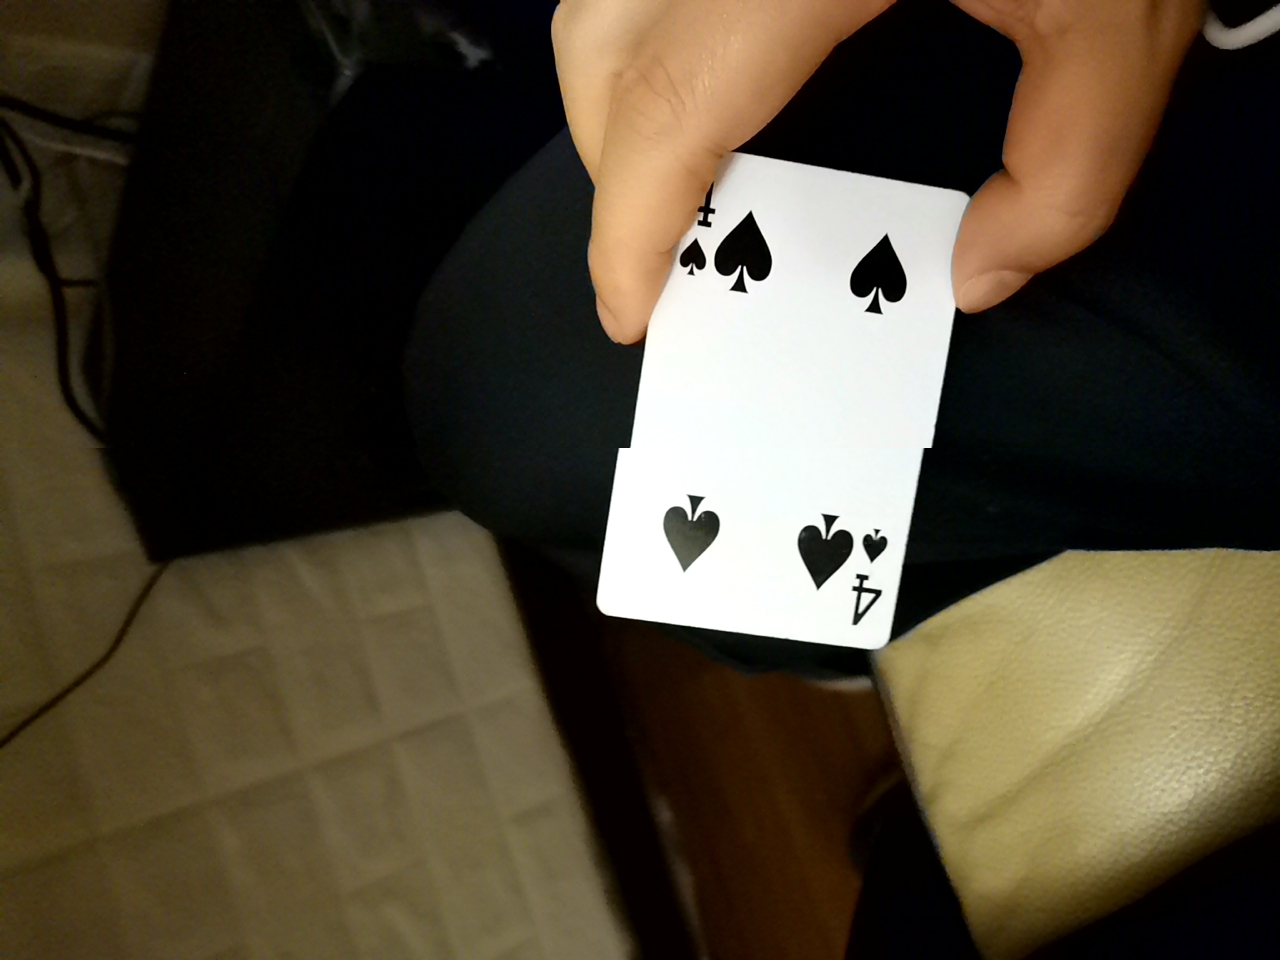ht 4: (601, 153, 971, 659)
